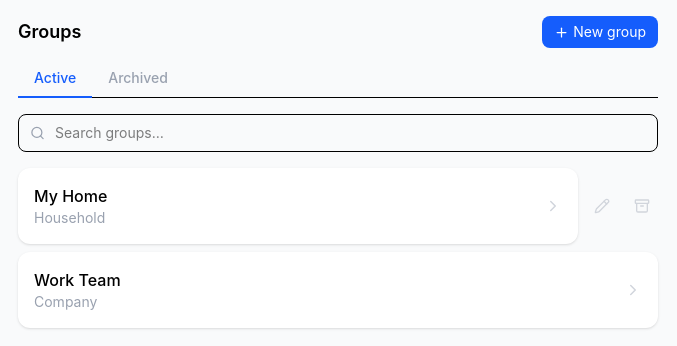
Test: GroupsPage › active tab › filters groups by search query
The image size is (677, 346).
Expected: the text "My Home" is shown, [34, 184, 107, 208]
Type "Work" into the field with placeholder "Search groups…". click: (338,133)
box: [18, 114, 658, 152]
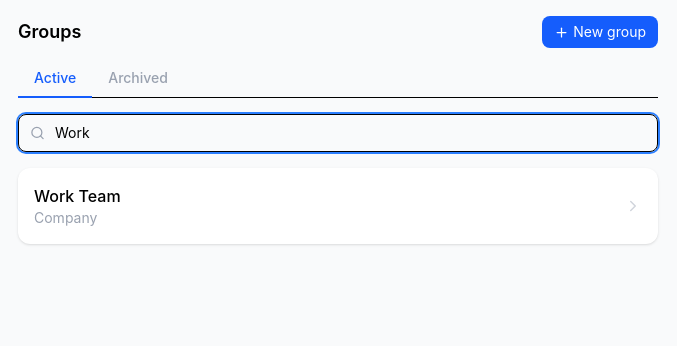
Expected: the text "Work Team" is shown, [34, 184, 121, 208]
Now the button "My Home" is gone
